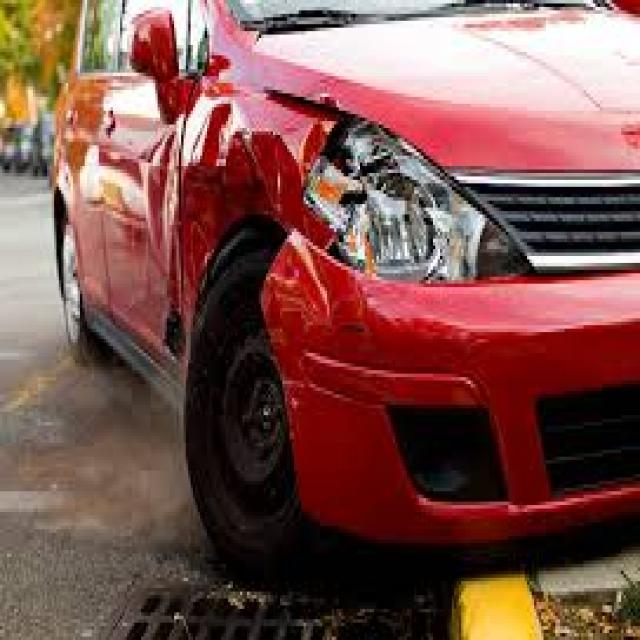moderate: (153, 66, 562, 415)
